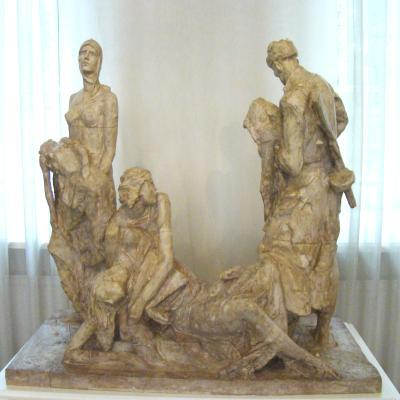sculpture: (39, 40, 355, 386)
